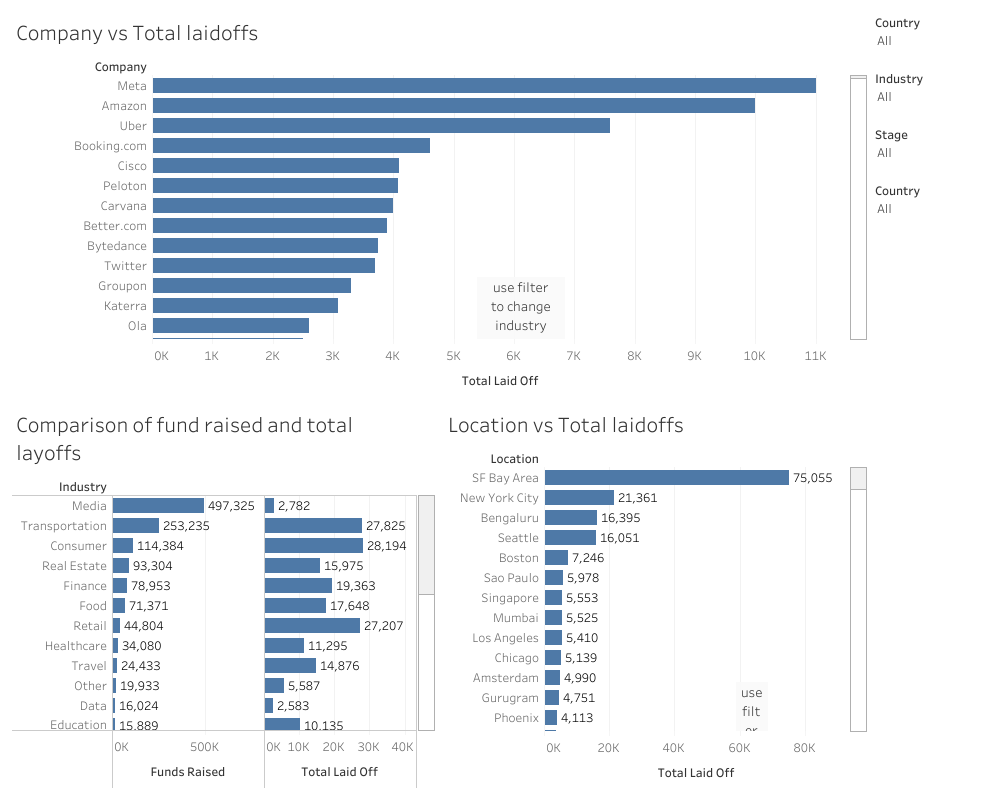

The dashboard page shown, as its layout file describes it:
{"tool":"tableau","page":{"name":"Dashboard 1","canvas":[1000,800],"ordinal":0},"visuals":[{"type":"worksheet","title":"company layoffs","mark":"Automatic","rows":["company"],"cols":["total_laid_off"],"box":[8,8,863,392]},{"type":"filter","title":"company layoffs","param":"[federated.1tvm4xk1ta7jwf1gc453814tonu4].[none:country:nk]","box":[871,8,121,56]},{"type":"filter","title":"company layoffs","param":"[federated.1tvm4xk1ta7jwf1gc453814tonu4].[none:industry:nk]","box":[871,64,121,56]},{"type":"filter","title":"location layoffs","param":"[federated.1tvm4xk1ta7jwf1gc453814tonu4].[none:stage:nk]","box":[871,120,121,56]},{"type":"filter","title":"location layoffs","param":"[federated.1tvm4xk1ta7jwf1gc453814tonu4].[none:country:nk]","box":[871,176,121,56]},{"type":"worksheet","title":"funded vs layoffs","mark":"Automatic","rows":["industry"],"cols":["funds_raised","total_laid_off"],"box":[8,400,431.5,392]},{"type":"worksheet","title":"location layoffs","mark":"Automatic","rows":["location"],"cols":["total_laid_off"],"box":[439.5,400,431.5,392]}]}

Visuals, with their boxes in screenshot pixels (x1, y1, x2, y2), scaled from the page's 1000x800 canvas onto the 999x799 screenshot:
"company layoffs" worksheet: (left=8, top=8, right=870, bottom=400)
"company layoffs" filter: (left=870, top=8, right=991, bottom=64)
"company layoffs" filter: (left=870, top=64, right=991, bottom=120)
"location layoffs" filter: (left=870, top=120, right=991, bottom=176)
"location layoffs" filter: (left=870, top=176, right=991, bottom=232)
"funded vs layoffs" worksheet: (left=8, top=400, right=439, bottom=791)
"location layoffs" worksheet: (left=439, top=400, right=870, bottom=791)
